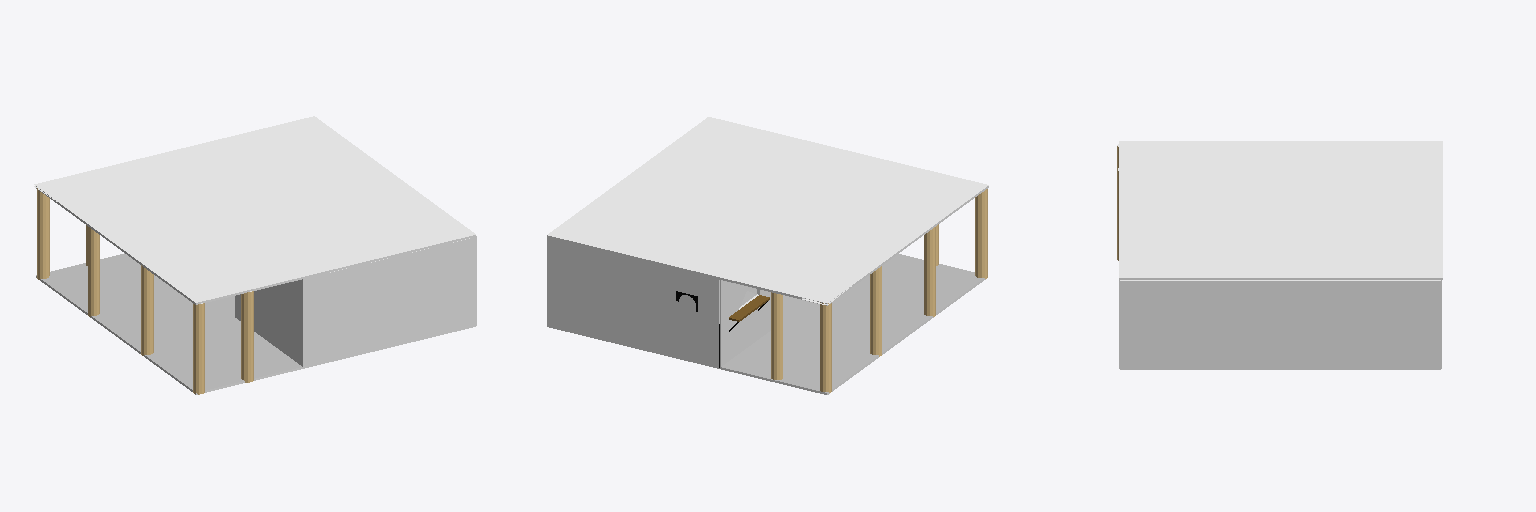
3 views of the same model, side by side, from view 1: azimuth 30°, elevation 25°; view 2: azimuth 150°, elevation 25°; view 3: azimuth 270°, elevation 25° (orthographic).
Parts seen in each view (by area): view 1: Cylinder.003; view 2: Cylinder.003; view 3: Cylinder.003.
Boxes of the visible parts, x1=… form: Cylinder.003: x1=34, y1=116, x2=476, y2=394; Cylinder.003: x1=547, y1=117, x2=988, y2=394; Cylinder.003: x1=1117, y1=141, x2=1442, y2=369.
Size of the model in its own units: 13.03 by 4.1 by 13.06.
2 materials, 1 textured.